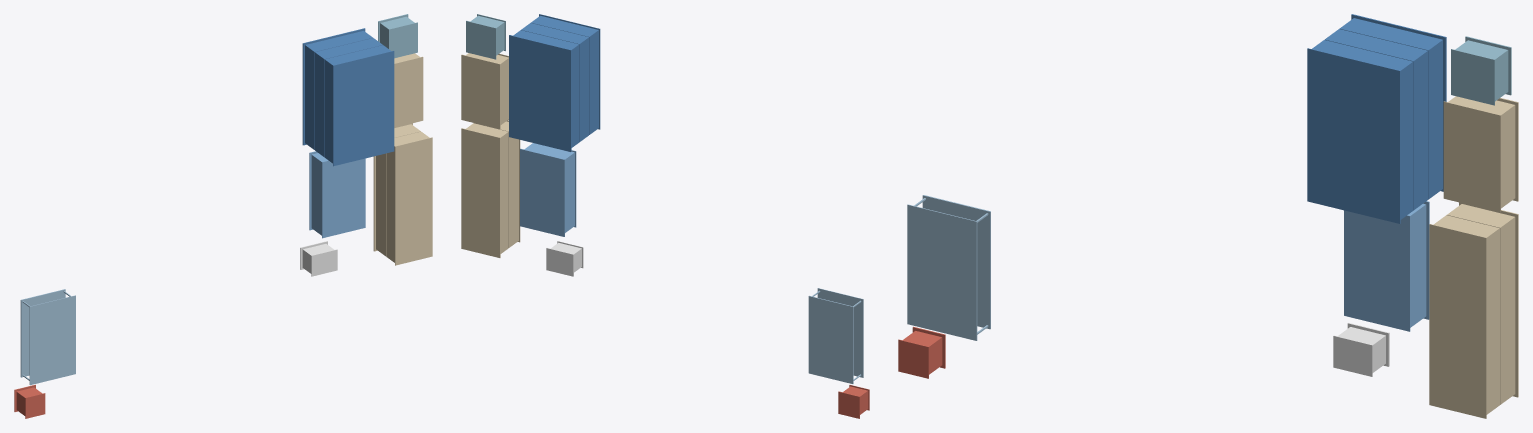
The picture shows the model from 3 angles, left to right: view 1: azimuth 30°, elevation 25°; view 2: azimuth 150°, elevation 25°; view 3: azimuth 330°, elevation 25°; orthographic projection. The views are drawn at different scales.
Visible parts, largest first — view 1: TMB_Ban chỉ huy công trường (văn phòng container 3 tầng) TMB, TMB_Nhà nghỉ ca công nhân - khối 1 (2 tầng) TMB_Nhà nghỉ ca , TMB_Nơi để xe công nhân (mái che) TMB_Nơi để xe công nhân (m, TMB_Nhà ăn (canteen) TMB_Nhà ăn (canteen) [1057437], TMB_Nhà nghỉ ca công nhân - khối 2 TMB_Nhà nghỉ ca công nhân, TMB_Nhà vệ sinh + nhà tắm TMB_Nhà vệ sinh + nhà tắm [1058264, TMB_Trạm y tế TMB_Trạm y tế [1054949], TMB_Nhà bảo vệ TMB_Nhà bảo vệ [1053281]; view 2: TMB_Ban chỉ huy công trường (văn phòng container 3 tầng) TMB, TMB_Nhà nghỉ ca công nhân - khối 1 (2 tầng) TMB_Nhà nghỉ ca , TMB_Nhà ăn (canteen) TMB_Nhà ăn (canteen) [1057437], TMB_Nơi để xe công nhân (mái che) TMB_Nơi để xe công nhân (m, TMB_Nhà nghỉ ca công nhân - khối 2 TMB_Nhà nghỉ ca công nhân, TMB_Nhà vệ sinh + nhà tắm TMB_Nhà vệ sinh + nhà tắm [1058264, TMB_Trạm y tế TMB_Trạm y tế [1054949], TMB_Nhà bảo vệ TMB_Nhà bảo vệ [1053281]; view 3: TMB_Ban chỉ huy công trường (văn phòng container 3 tầng) TMB, TMB_Nhà nghỉ ca công nhân - khối 1 (2 tầng) TMB_Nhà nghỉ ca , TMB_Nơi để xe công nhân (mái che) TMB_Nơi để xe công nhân (m, TMB_Nhà ăn (canteen) TMB_Nhà ăn (canteen) [1057437], TMB_Nhà nghỉ ca công nhân - khối 2 TMB_Nhà nghỉ ca công nhân, TMB_Nhà vệ sinh + nhà tắm TMB_Nhà vệ sinh + nhà tắm [1058264, TMB_Trạm y tế TMB_Trạm y tế [1054949], TMB_Nhà bảo vệ TMB_Nhà bảo vệ [1053281].
Part boxes in pixels (box(x1,y1,x2,y2)): TMB_Ban chỉ huy công trường (văn phòng container 3 tầng) TMB: box(302, 28, 394, 166); TMB_Nhà nghỉ ca công nhân - khối 1 (2 tầng) TMB_Nhà nghỉ ca : box(373, 123, 432, 265); TMB_Nơi để xe công nhân (mái che) TMB_Nơi để xe công nhân (m: box(20, 289, 75, 385); TMB_Nhà ăn (canteen) TMB_Nhà ăn (canteen) [1057437]: box(309, 151, 365, 238); TMB_Nhà nghỉ ca công nhân - khối 2 TMB_Nhà nghỉ ca công nhân: box(394, 53, 423, 127); TMB_Nhà vệ sinh + nhà tắm TMB_Nhà vệ sinh + nhà tắm [1058264: box(378, 14, 417, 58); TMB_Trạm y tế TMB_Trạm y tế [1054949]: box(300, 241, 337, 276); TMB_Nhà bảo vệ TMB_Nhà bảo vệ [1053281]: box(14, 384, 45, 418); TMB_Ban chỉ huy công trường (văn phòng container 3 tầng) TMB: box(509, 14, 600, 151); TMB_Nhà nghỉ ca công nhân - khối 1 (2 tầng) TMB_Nhà nghỉ ca : box(461, 120, 520, 257); TMB_Nhà ăn (canteen) TMB_Nhà ăn (canteen) [1057437]: box(520, 143, 576, 236); TMB_Nơi để xe công nhân (mái che) TMB_Nơi để xe công nhân (m: box(808, 288, 863, 383); TMB_Nhà nghỉ ca công nhân - khối 2 TMB_Nhà nghỉ ca công nhân: box(461, 53, 508, 129); TMB_Nhà vệ sinh + nhà tắm TMB_Nhà vệ sinh + nhà tắm [1058264: box(466, 14, 505, 59); TMB_Trạm y tế TMB_Trạm y tế [1054949]: box(546, 241, 583, 276); TMB_Nhà bảo vệ TMB_Nhà bảo vệ [1053281]: box(838, 385, 869, 418); TMB_Ban chỉ huy công trường (văn phòng container 3 tầng) TMB: box(1307, 14, 1446, 223); TMB_Nhà nghỉ ca công nhân - khối 1 (2 tầng) TMB_Nhà nghỉ ca : box(1429, 202, 1518, 418); TMB_Nơi để xe công nhân (mái che) TMB_Nơi để xe công nhân (m: box(907, 195, 990, 340); TMB_Nhà ăn (canteen) TMB_Nhà ăn (canteen) [1057437]: box(1344, 201, 1429, 331); TMB_Nhà nghỉ ca công nhân - khối 2 TMB_Nhà nghỉ ca công nhân: box(1443, 96, 1518, 212); TMB_Nhà vệ sinh + nhà tắm TMB_Nhà vệ sinh + nhà tắm [1058264: box(1451, 36, 1511, 105); TMB_Trạm y tế TMB_Trạm y tế [1054949]: box(1333, 323, 1389, 376); TMB_Nhà bảo vệ TMB_Nhà bảo vệ [1053281]: box(898, 326, 945, 378).
Size of the model in its own units: 223 by 161 by 29.04.
